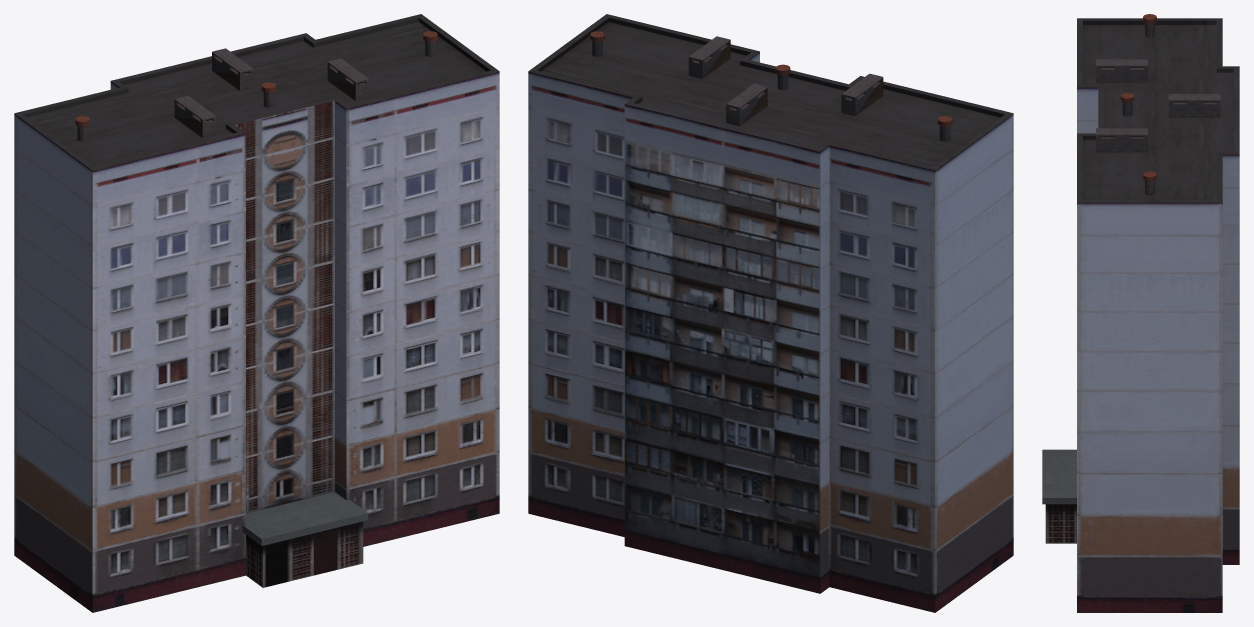
The model's file is building.glb.
3 renders of one model, left to right at view 1: azimuth 30°, elevation 25°; view 2: azimuth 150°, elevation 25°; view 3: azimuth 270°, elevation 25°, orthographic. The views are drawn at different scales.
Parts seen in each view (by area): view 1: building_1; view 2: building_1; view 3: building_1.
Boxes of the visible parts, box(x1,y1,x2,y2) form: building_1: box(14, 14, 499, 612); building_1: box(528, 14, 1013, 612); building_1: box(1042, 14, 1239, 612).
Bounding box in the file's own units: 29.3 × 31.5 × 13.27.
1 material, 1 textured.
